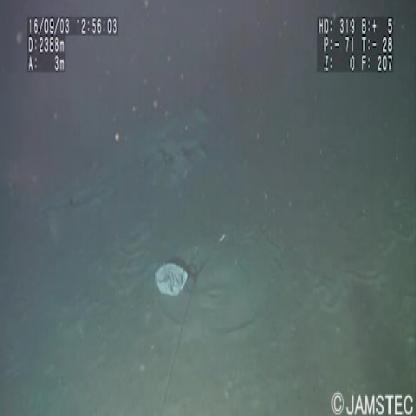Rác: (152, 256, 197, 300)
